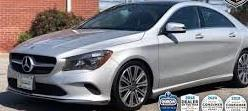Cars: (9, 3, 248, 110)
